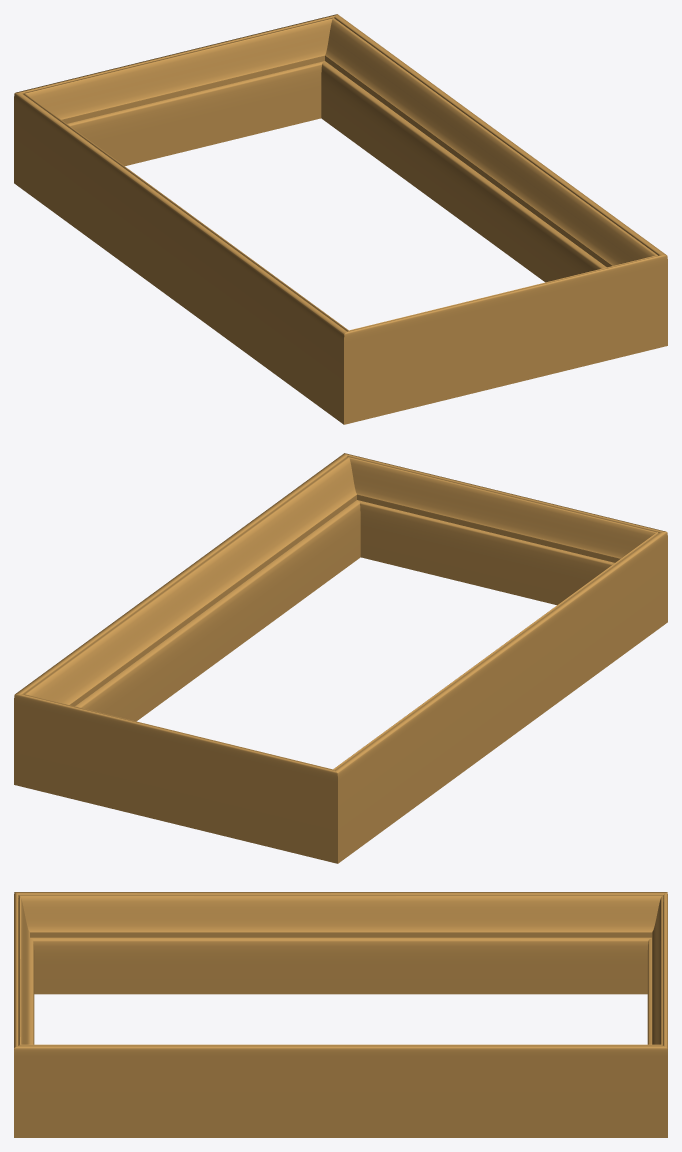
The model's file is frame.obj.
The picture shows the model from 3 angles, top to bottom: view 1: azimuth 30°, elevation 25°; view 2: azimuth 150°, elevation 25°; view 3: azimuth 270°, elevation 25°; orthographic projection.
Parts seen in each view (by area): view 1: window_trim_interior001; view 2: window_trim_interior001; view 3: window_trim_interior001.
Boxes of the visible parts, x1,y1,x2,y2 form: window_trim_interior001: [14, 14, 667, 424]; window_trim_interior001: [14, 453, 667, 863]; window_trim_interior001: [14, 892, 667, 1137].
Bounding box in the file's own units: 2.34 × 0.625 × 4.13.
